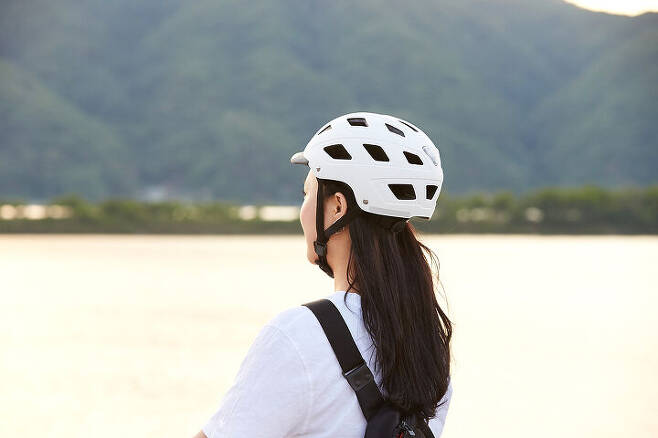with helmet: (296, 105, 449, 283)
